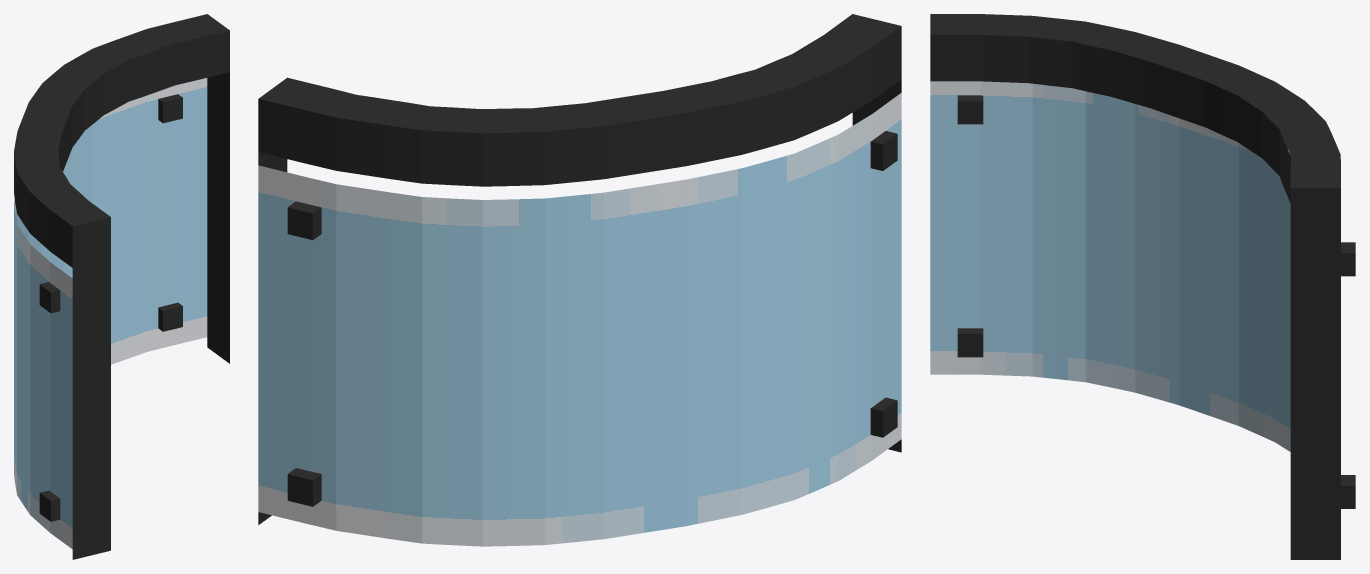
File: baranda_esquina.gltf
3 views of the same model, side by side, from view 1: azimuth 30°, elevation 25°; view 2: azimuth 150°, elevation 25°; view 3: azimuth 270°, elevation 25° (orthographic). The views are drawn at different scales.
Visible parts, largest first — view 1: baranda_borde, metal_thingy_borde, metal_thingy_borde2, metal_thingy_borde4, metal_thingy_borde3; view 2: baranda_borde, metal_thingy_borde, metal_thingy_borde2, metal_thingy_borde3, metal_thingy_borde4; view 3: baranda_borde, metal_thingy_borde3, metal_thingy_borde4, metal_thingy_borde.
Boxes of the visible parts, x1=… form: baranda_borde: x1=14, y1=14, x2=229, y2=559; metal_thingy_borde: x1=158, y1=94, x2=182, y2=123; metal_thingy_borde2: x1=158, y1=302, x2=182, y2=331; metal_thingy_borde4: x1=39, y1=282, x2=60, y2=313; metal_thingy_borde3: x1=39, y1=490, x2=60, y2=521; baranda_borde: x1=258, y1=14, x2=901, y2=546; metal_thingy_borde: x1=287, y1=201, x2=321, y2=240; metal_thingy_borde2: x1=287, y1=468, x2=321, y2=506; metal_thingy_borde3: x1=870, y1=397, x2=897, y2=437; metal_thingy_borde4: x1=870, y1=131, x2=897, y2=170; baranda_borde: x1=930, y1=14, x2=1340, y2=559; metal_thingy_borde3: x1=957, y1=328, x2=983, y2=357; metal_thingy_borde4: x1=957, y1=95, x2=983, y2=124; metal_thingy_borde: x1=1341, y1=242, x2=1355, y2=276.
Bounding box in the file's own units: 1.03 × 1 × 1.04.
2 materials, 2 textured.
